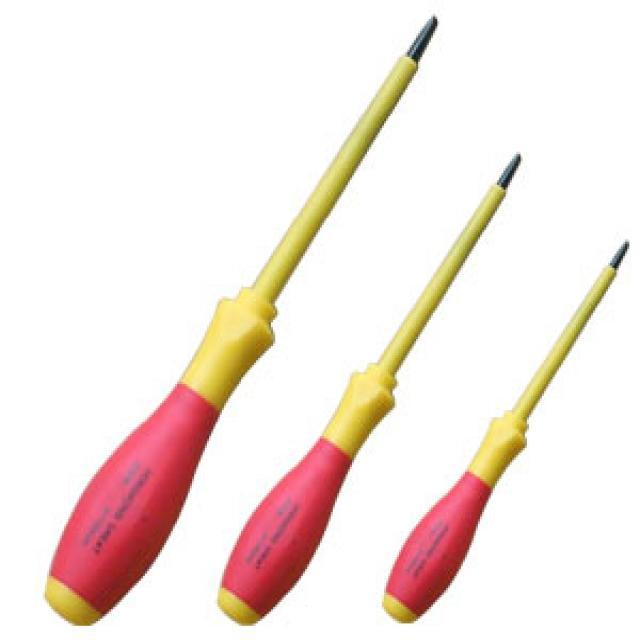screwdriver: (41, 9, 452, 634), (217, 141, 536, 634), (371, 222, 639, 634)
